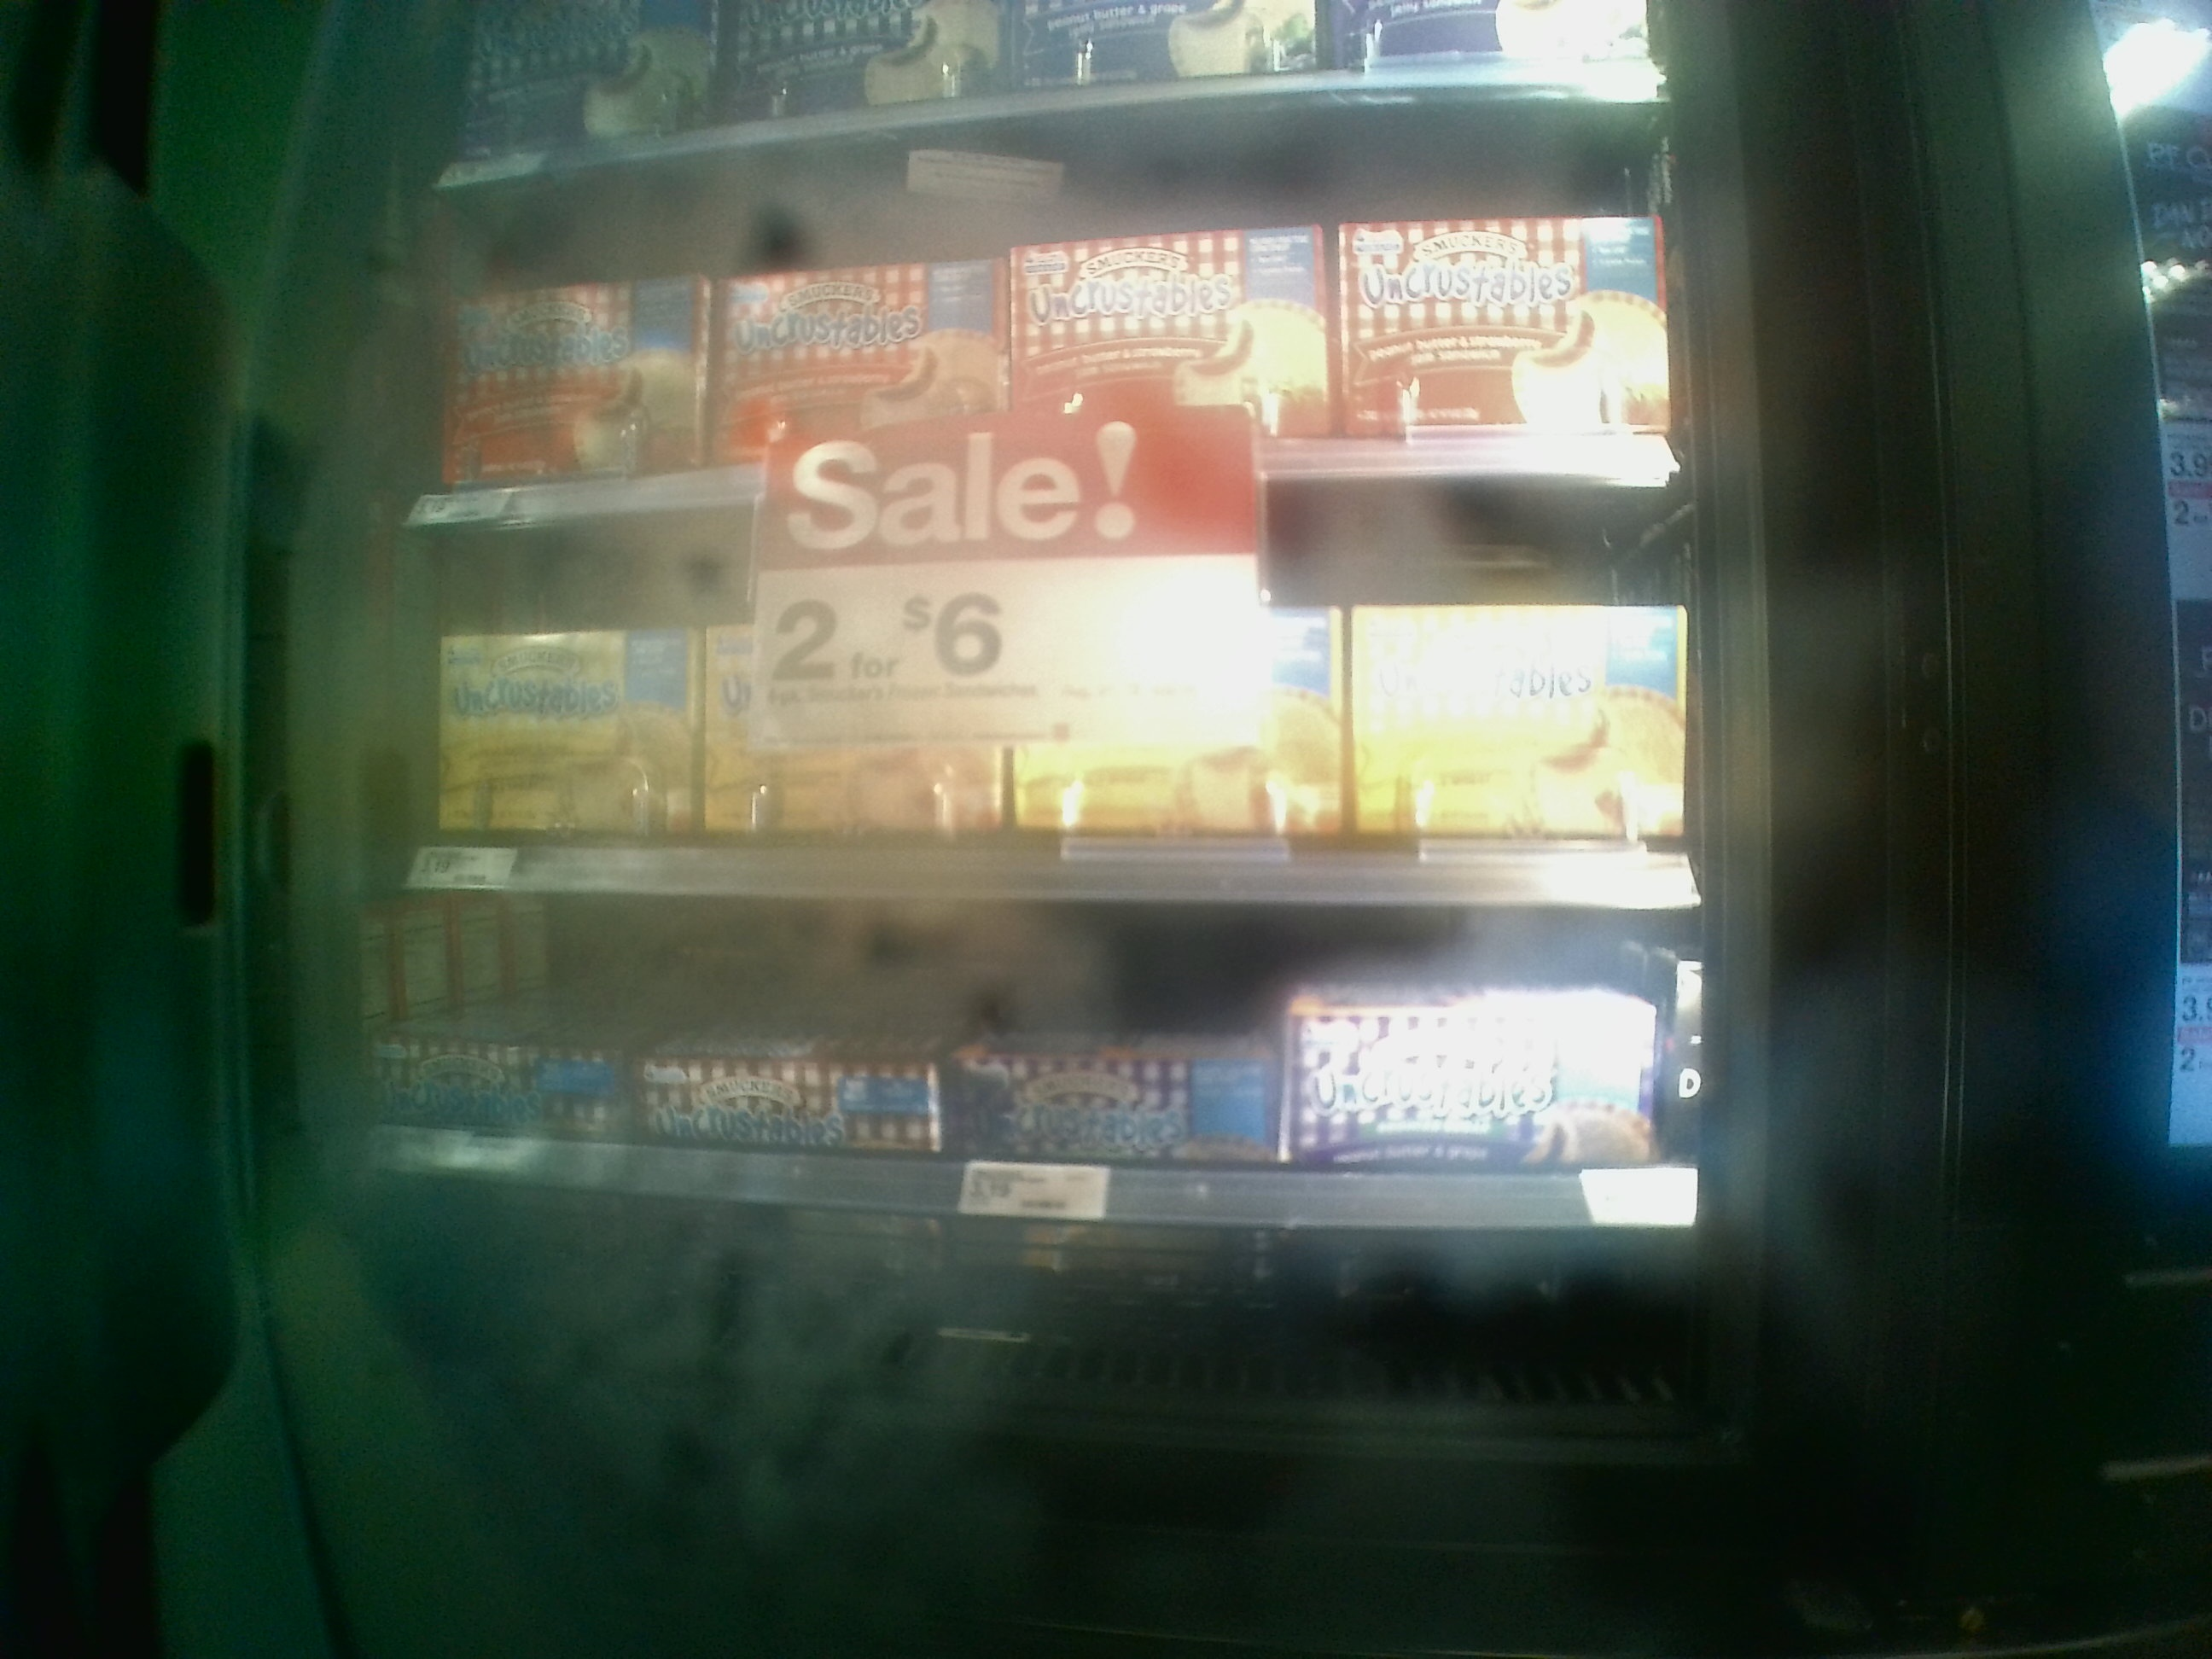shelf: (387, 871, 1724, 1441), (394, 509, 1698, 915), (404, 167, 1672, 502)
